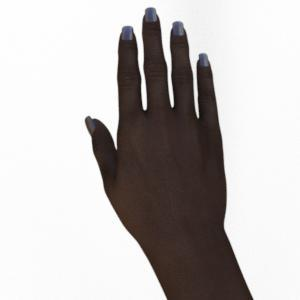paper: (85, 8, 258, 300)
